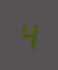four: (19, 19, 36, 50)
